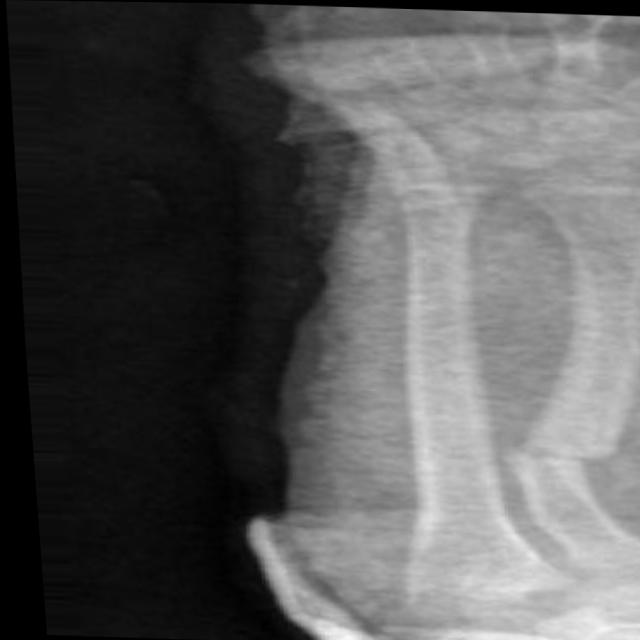fracture: (498, 437, 607, 470)
